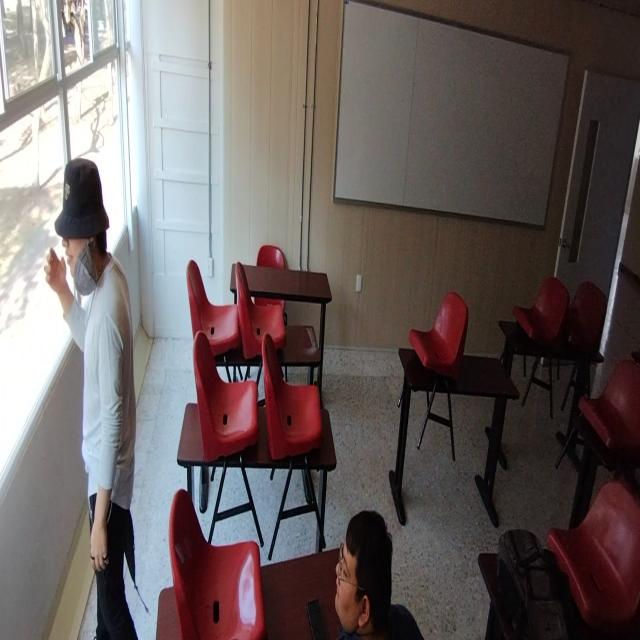adult: (45, 153, 136, 640), (332, 513, 422, 640)
